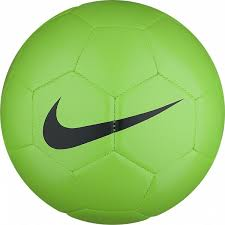top: (1, 1, 224, 224)
